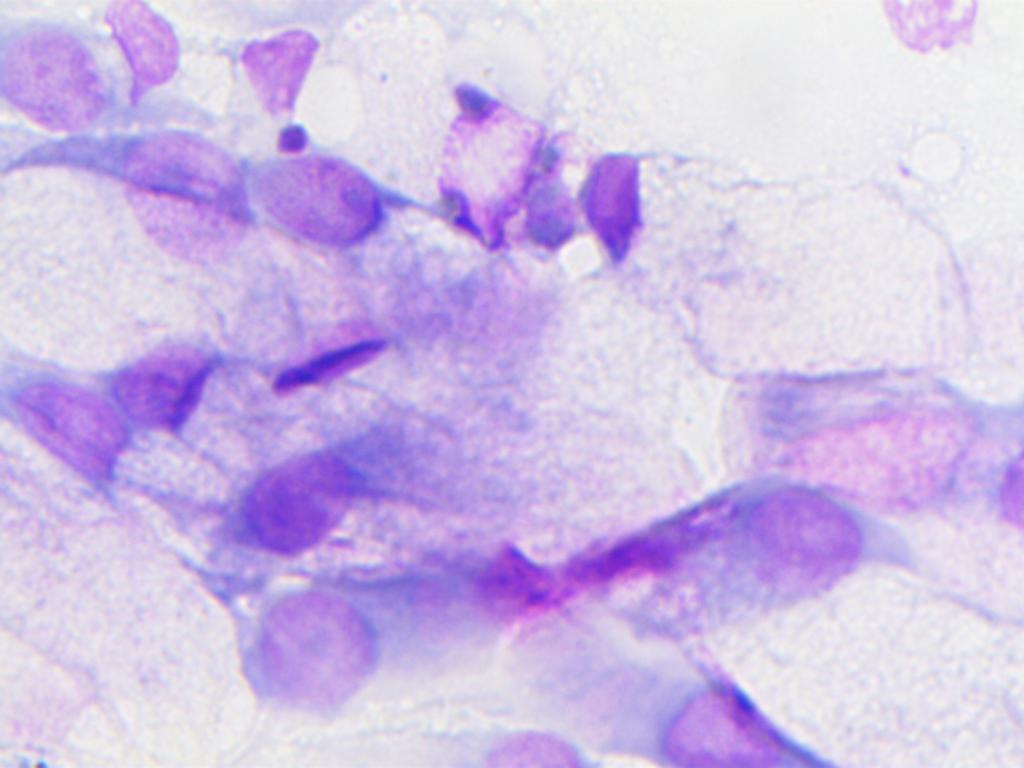artifact: (226, 34, 346, 146), (252, 327, 397, 402), (877, 0, 1022, 57)
epithelial: (231, 572, 453, 727), (218, 422, 375, 559), (104, 129, 250, 263), (0, 7, 109, 134), (734, 481, 862, 576)
goblet_cell: (651, 566, 1024, 768), (560, 139, 890, 289), (660, 638, 947, 768), (225, 141, 472, 282), (7, 360, 170, 548), (103, 334, 270, 458)
